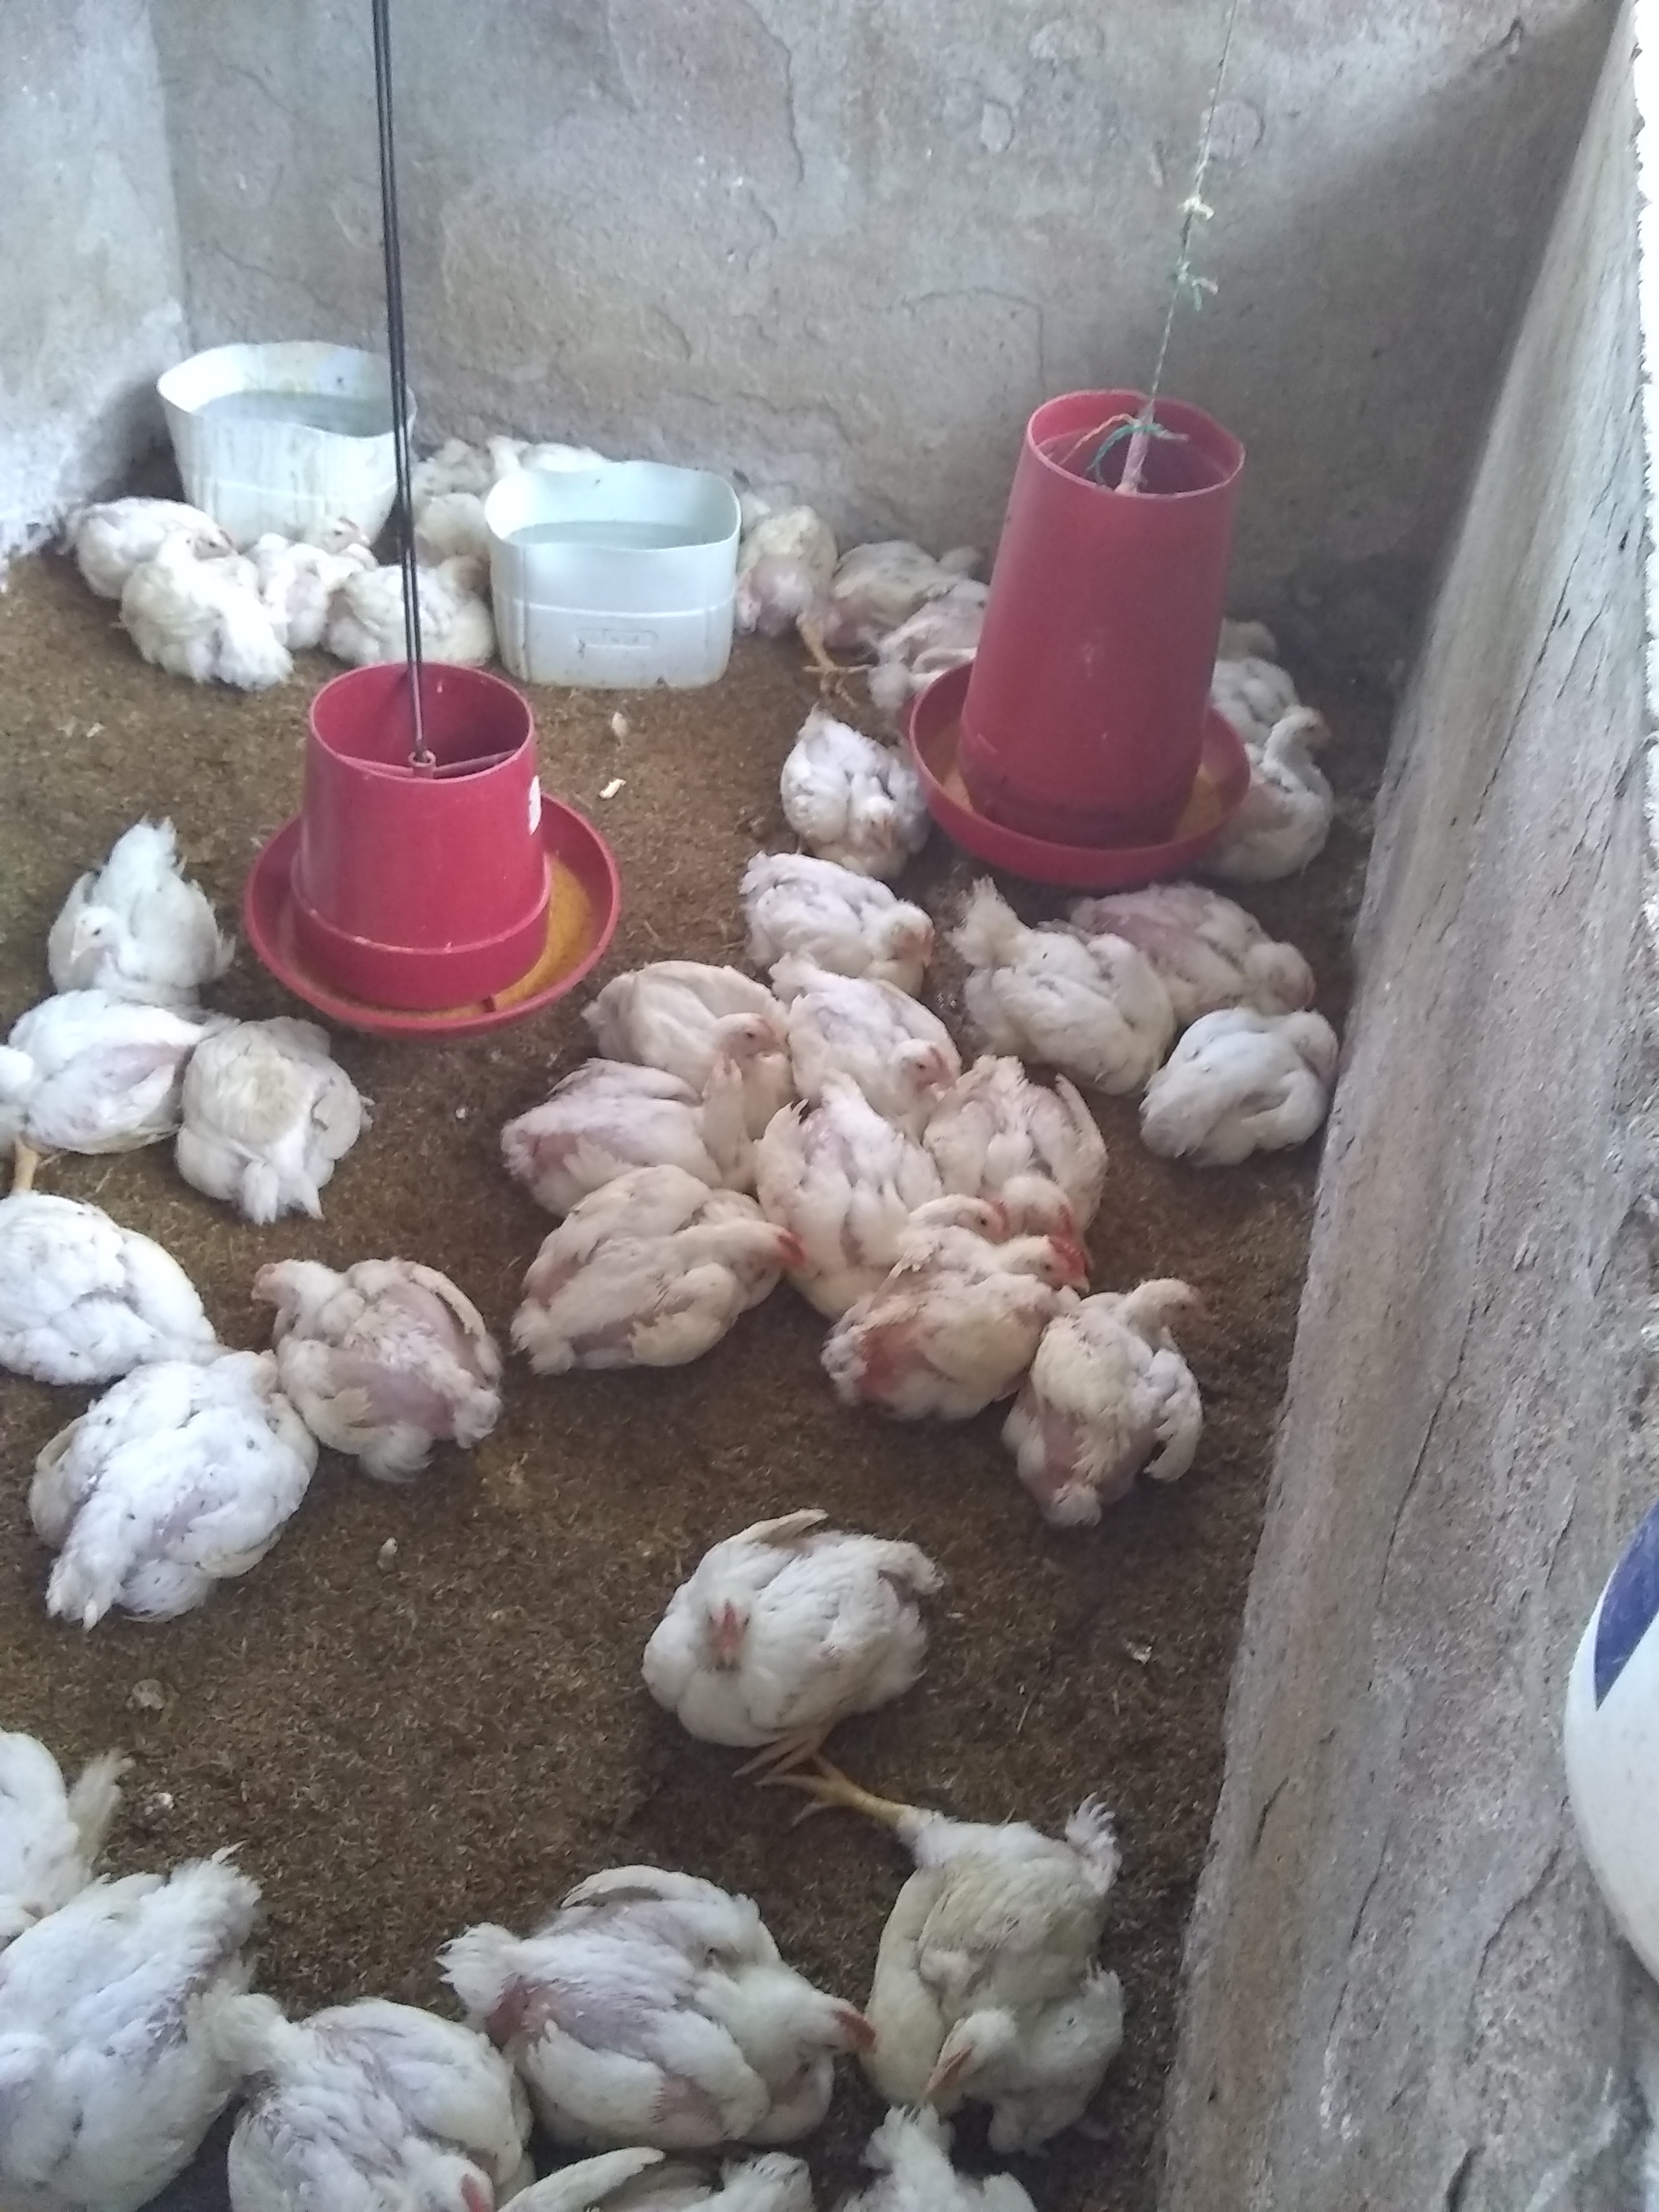Pollos: (859, 1688, 1223, 2155), (411, 1829, 868, 2134), (533, 1489, 931, 1780), (0, 1839, 301, 2212), (5, 1345, 335, 1616), (213, 1956, 538, 2212), (1018, 1247, 1281, 1543), (267, 1242, 519, 1470), (519, 1172, 789, 1372), (0, 1169, 209, 1426), (150, 981, 359, 1212), (861, 1231, 1086, 1423), (30, 801, 253, 984), (969, 873, 1154, 1085), (0, 975, 193, 1174), (1150, 1008, 1354, 1193), (518, 1042, 728, 1198), (610, 927, 800, 1082), (770, 862, 945, 996), (777, 702, 924, 857), (1251, 698, 1349, 892), (0, 1712, 101, 1897), (734, 500, 838, 669), (1197, 873, 1323, 1008), (835, 528, 1000, 631), (153, 491, 247, 646), (383, 540, 502, 660), (275, 472, 378, 592), (894, 1186, 1011, 1251), (1016, 1150, 1094, 1244), (877, 1024, 951, 1109), (371, 660, 383, 669)
